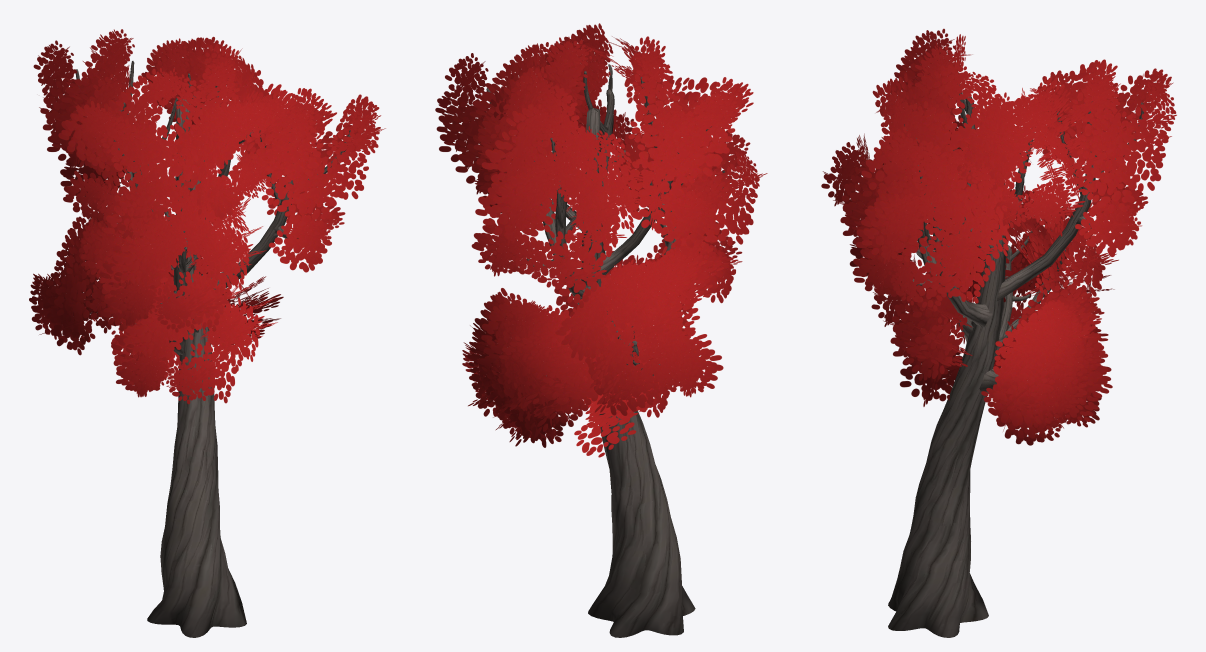
Rendered from Twisted_Tree.glb.
3 views of the same model, side by side, from view 1: azimuth 30°, elevation 25°; view 2: azimuth 150°, elevation 25°; view 3: azimuth 270°, elevation 25° (orthographic). The views are drawn at different scales.
Visible parts, largest first — view 1: TwistedTree_5; view 2: TwistedTree_5; view 3: TwistedTree_5.
Boxes of the visible parts, x1,y1,x2,y2 form: TwistedTree_5: (29, 29, 385, 637); TwistedTree_5: (435, 23, 767, 637); TwistedTree_5: (821, 28, 1176, 637).
Size of the model in its own units: 9.49 by 15.66 by 9.39.
Materials: 2 (2 with a texture image).
